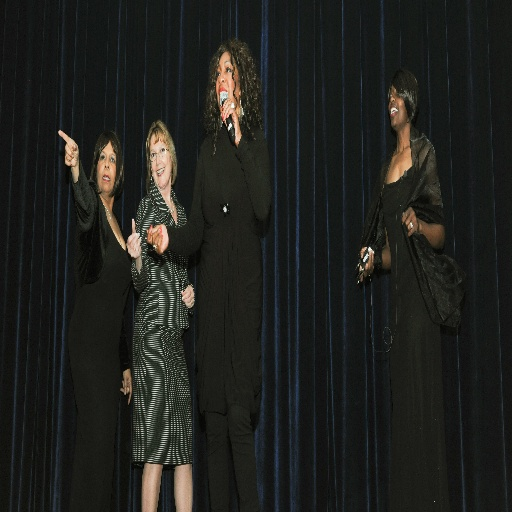hand: (56, 123, 80, 194), (220, 96, 240, 145), (146, 224, 168, 257), (126, 218, 143, 258), (357, 243, 373, 283), (401, 203, 420, 235), (121, 367, 133, 401), (181, 284, 195, 309)
